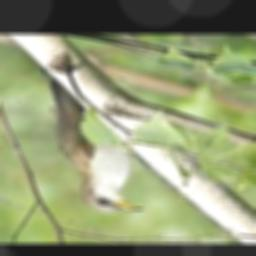Cuckoo: (41, 66, 144, 213)
